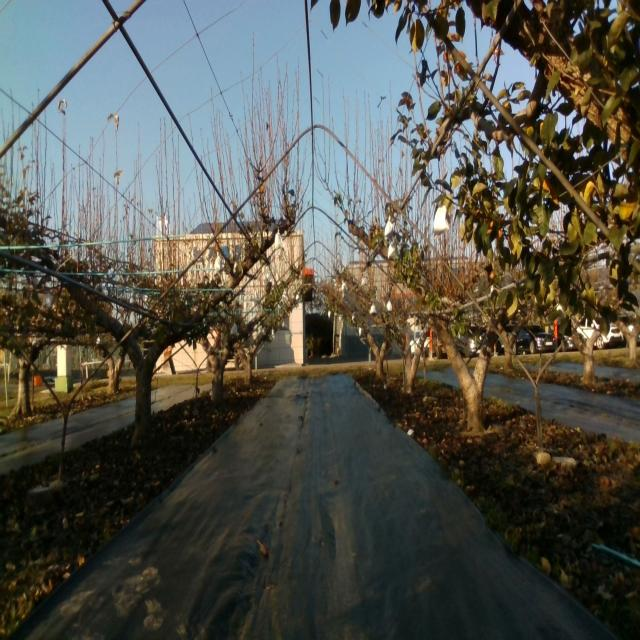pearbags: (434, 204, 451, 239), (387, 240, 399, 262), (214, 251, 225, 275), (384, 216, 394, 240), (273, 231, 284, 250)
